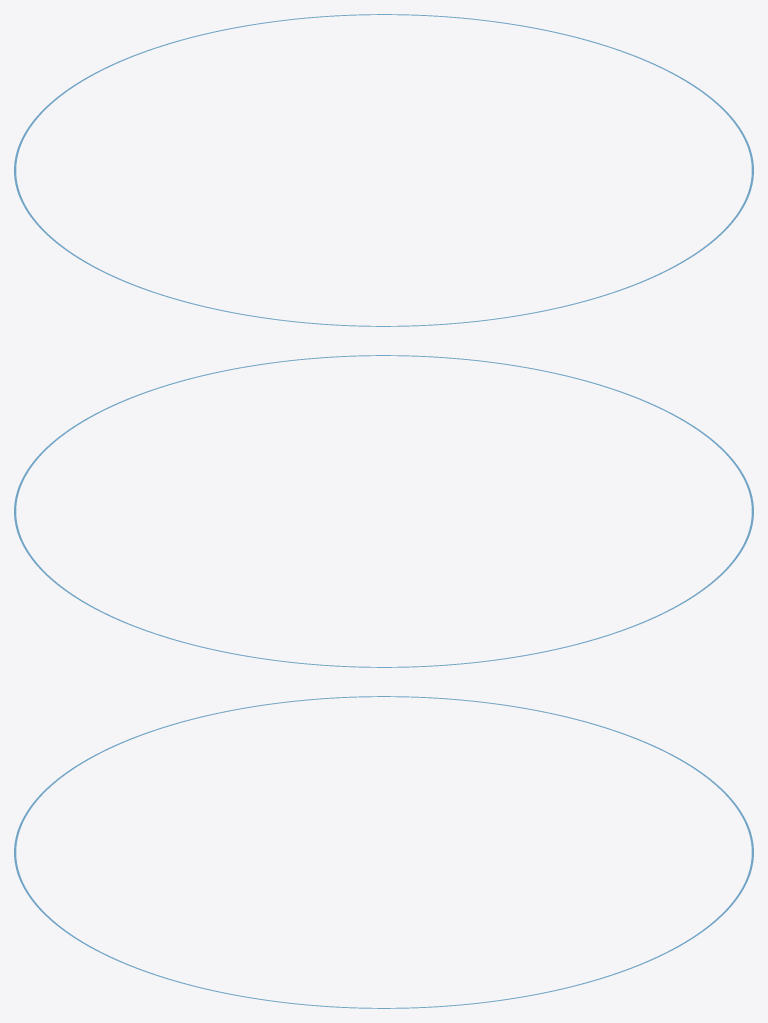
Rendered from Orbit_Unit.glb.
The picture shows the model from 3 angles, top to bottom: view 1: azimuth 30°, elevation 25°; view 2: azimuth 150°, elevation 25°; view 3: azimuth 270°, elevation 25°; orthographic projection.
Parts seen in each view (by area): view 1: Orbit_Unit; view 2: Orbit_Unit; view 3: Orbit_Unit.
Boxes of the visible parts, x1,y1,x2,y2 form: Orbit_Unit: (14,14,753,326); Orbit_Unit: (14,355,753,667); Orbit_Unit: (14,696,753,1008).
Size of the model in its own units: 2.01 by 0 by 2.01.
